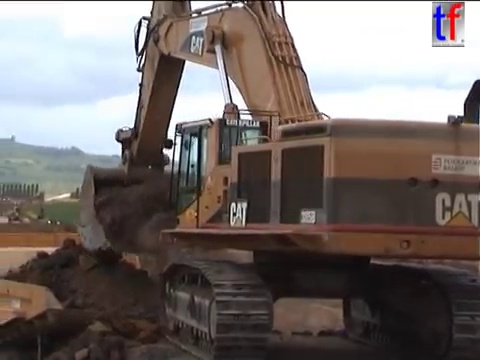excavator: (75, 1, 480, 360), (3, 206, 33, 229)
truck: (1, 231, 181, 360)
